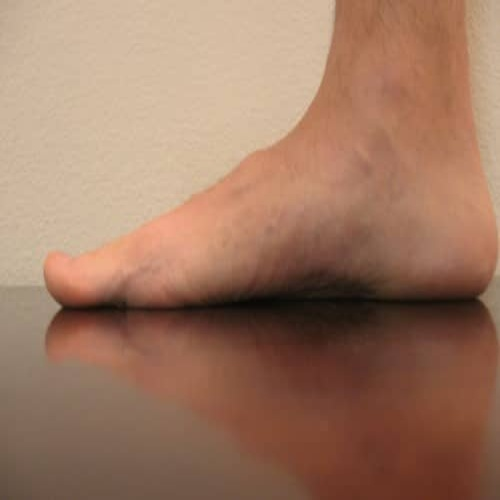Top_Foot: (43, 150, 500, 309)
